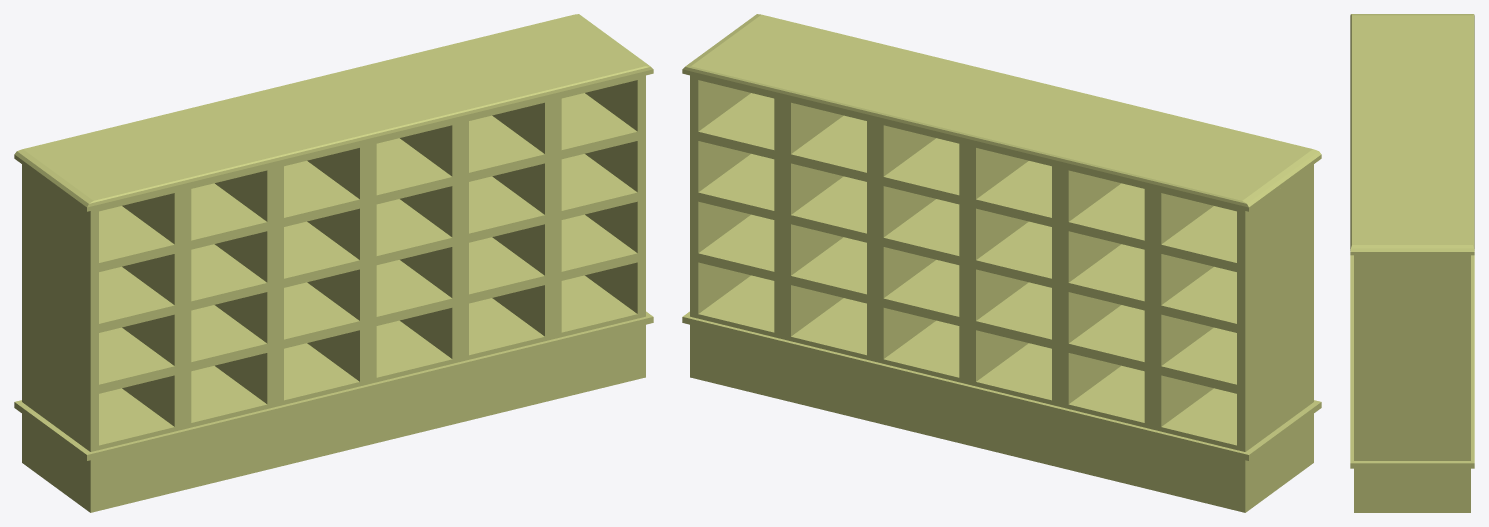
Rendered from RecibidorBar.fbx.
3 views of the same model, side by side, from view 1: azimuth 30°, elevation 25°; view 2: azimuth 150°, elevation 25°; view 3: azimuth 270°, elevation 25° (orthographic). The views are drawn at different scales.
Parts seen in each view (by area): view 1: Cube.001; view 2: Cube.001; view 3: Cube.001.
Part boxes in pixels (x1,y1,x2,y2): Cube.001: (14,14,653,512); Cube.001: (682,14,1321,512); Cube.001: (1350,14,1474,512).
Size of the model in its own units: 204 by 108 by 45.28.
